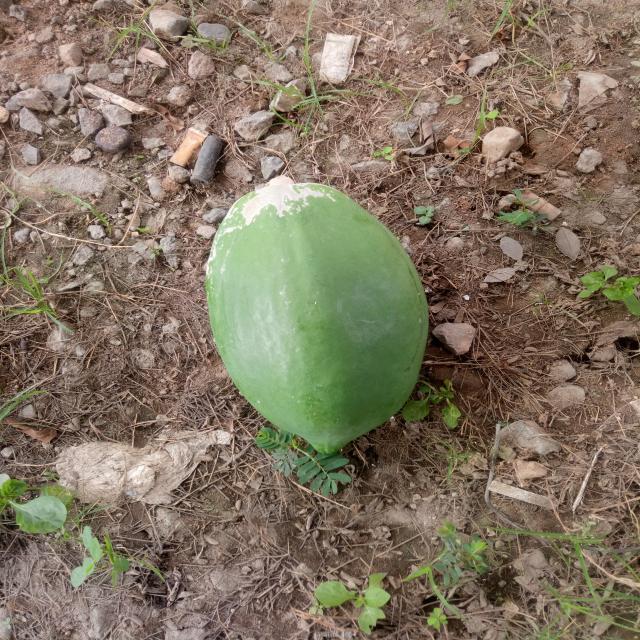Pepaya unrippen: (205, 173, 429, 459)
